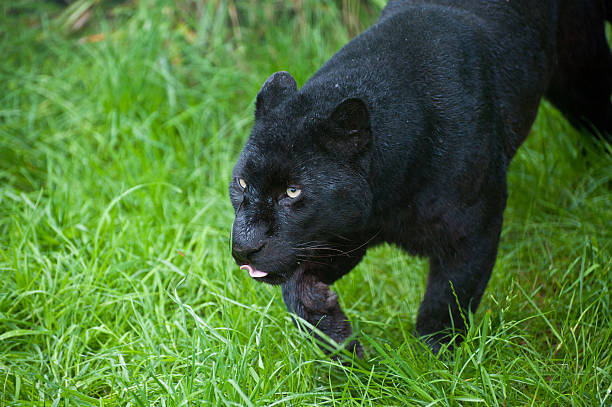panther: (210, 66, 400, 299)
